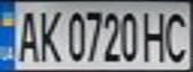0: (118, 7, 142, 63), (63, 7, 84, 63)
2: (103, 7, 124, 63)
7: (84, 7, 106, 63)
A: (12, 6, 42, 63)
C: (160, 7, 193, 62)
H: (139, 7, 172, 63)
K: (33, 6, 63, 63)
